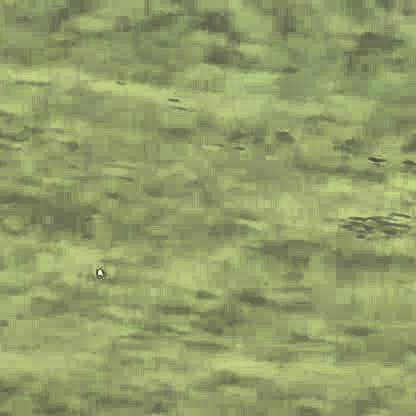golfball: (95, 267, 102, 272)
